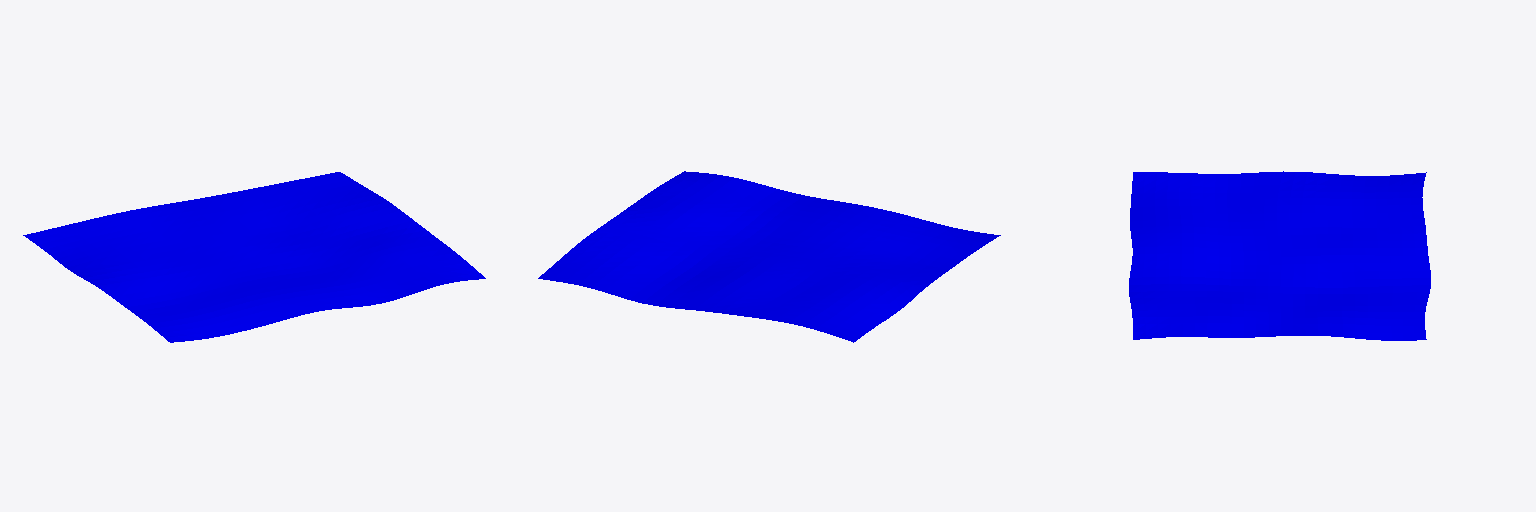
3 views of the same model, side by side, from view 1: azimuth 30°, elevation 25°; view 2: azimuth 150°, elevation 25°; view 3: azimuth 270°, elevation 25° (orthographic).
Visible parts, largest first — view 1: ET; view 2: ET; view 3: ET.
Boxes of the visible parts, x1,y1,x2,y2 form: ET: [23, 172, 485, 342]; ET: [538, 171, 1000, 342]; ET: [1129, 171, 1430, 340].
Size of the model in its own units: 2.51 by 0.1129 by 2.06.